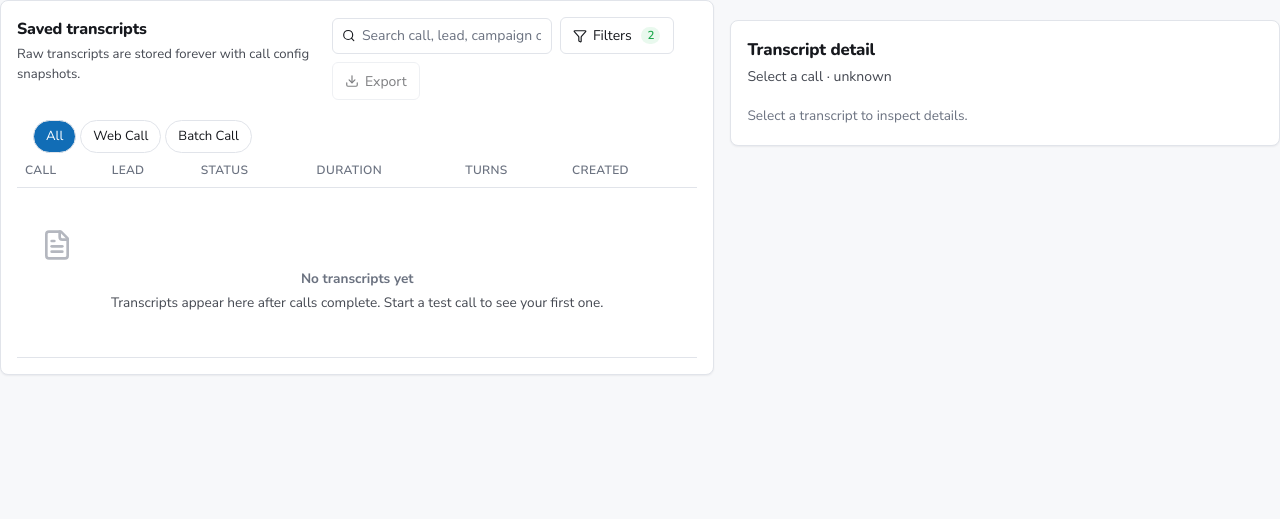
Scenario: TranscriptsView date range validation › shows a validation error and disables export when end date is before start date
Click the button "Filters 2". click: {"x": 617, "y": 36}
box: x1=560 y1=17 x2=674 y2=54
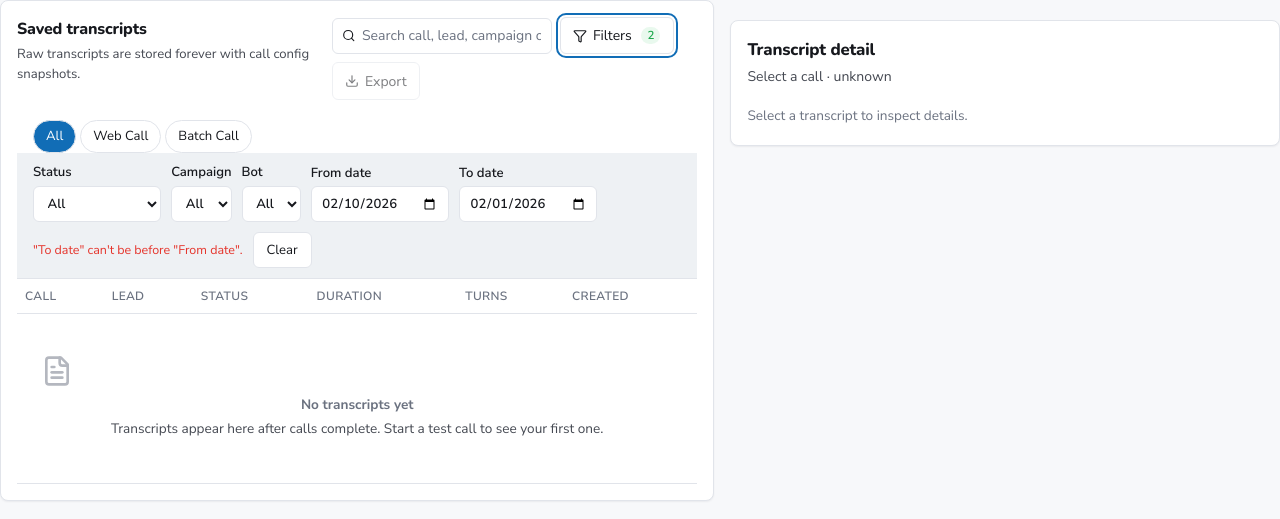
Expected: the button "Export" is disabled, x1=332 y1=62 x2=420 y2=100
Result: the message shows "can't be before" at x1=33 y1=241 x2=243 y2=258
